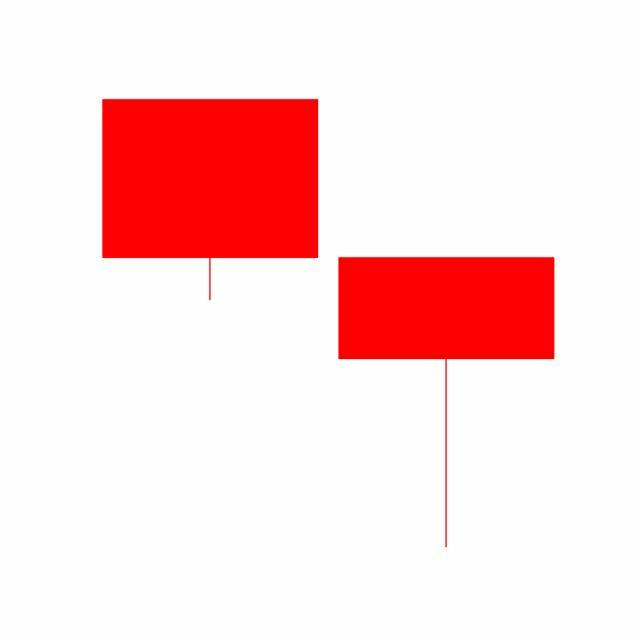Hammer: (328, 255, 566, 552)
